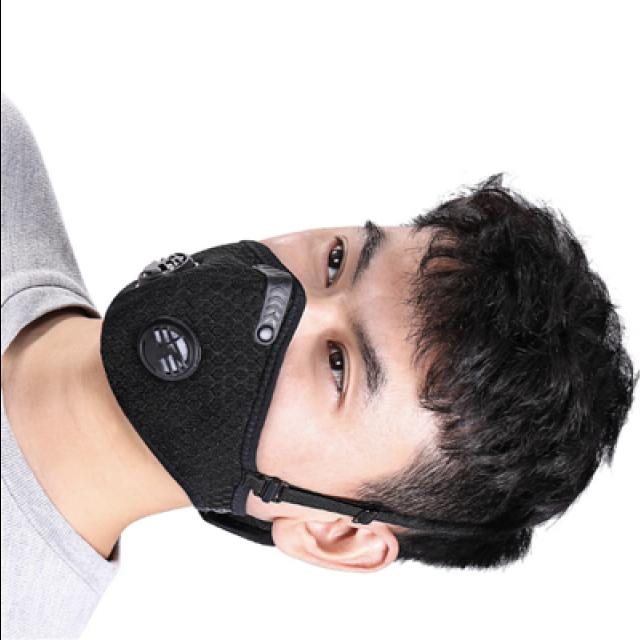mask: (100, 220, 393, 518)
